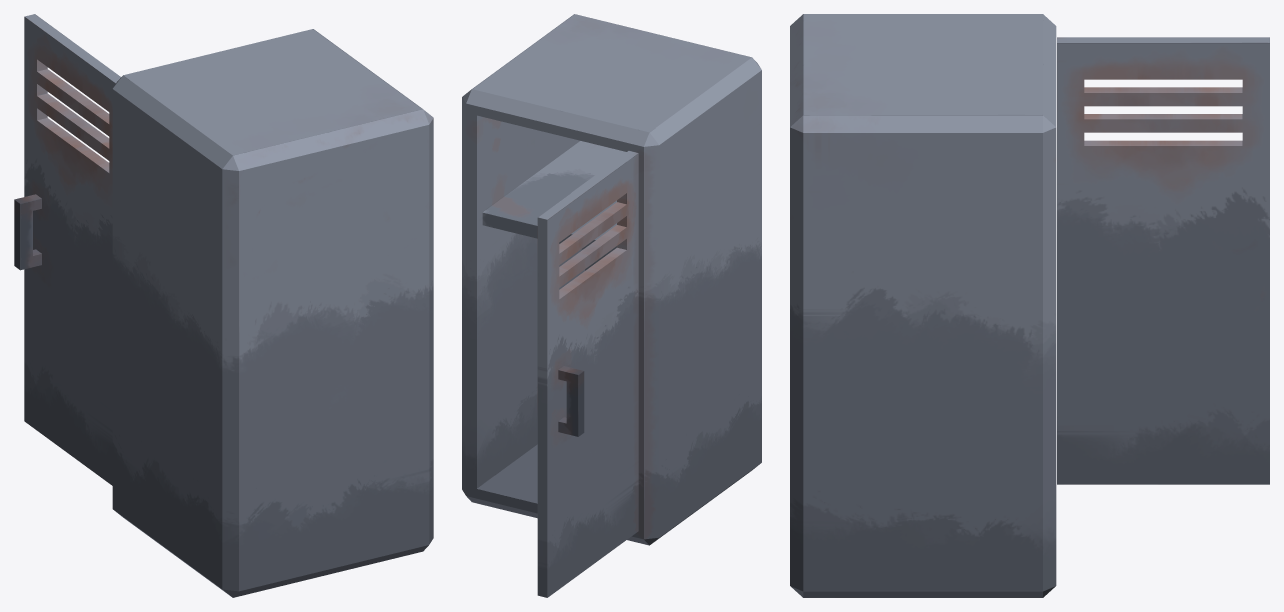
File: Closet_Big.fbx
3 renders of one model, left to right at view 1: azimuth 30°, elevation 25°; view 2: azimuth 150°, elevation 25°; view 3: azimuth 270°, elevation 25°, orthographic. The views are drawn at different scales.
Visible parts, largest first — view 1: Cube, Cube.001; view 2: Cube, Cube.001; view 3: Cube, Cube.001.
Boxes of the visible parts, box(x1,y1,x2,y2) form: Cube: box(112, 29, 433, 597); Cube.001: box(14, 14, 120, 485); Cube: box(462, 14, 761, 545); Cube.001: box(537, 151, 638, 597); Cube: box(790, 14, 1056, 597); Cube.001: box(1057, 37, 1269, 484).
Size of the model in its own units: 206 by 400 by 360.
Materials: 1 (1 with a texture image).
